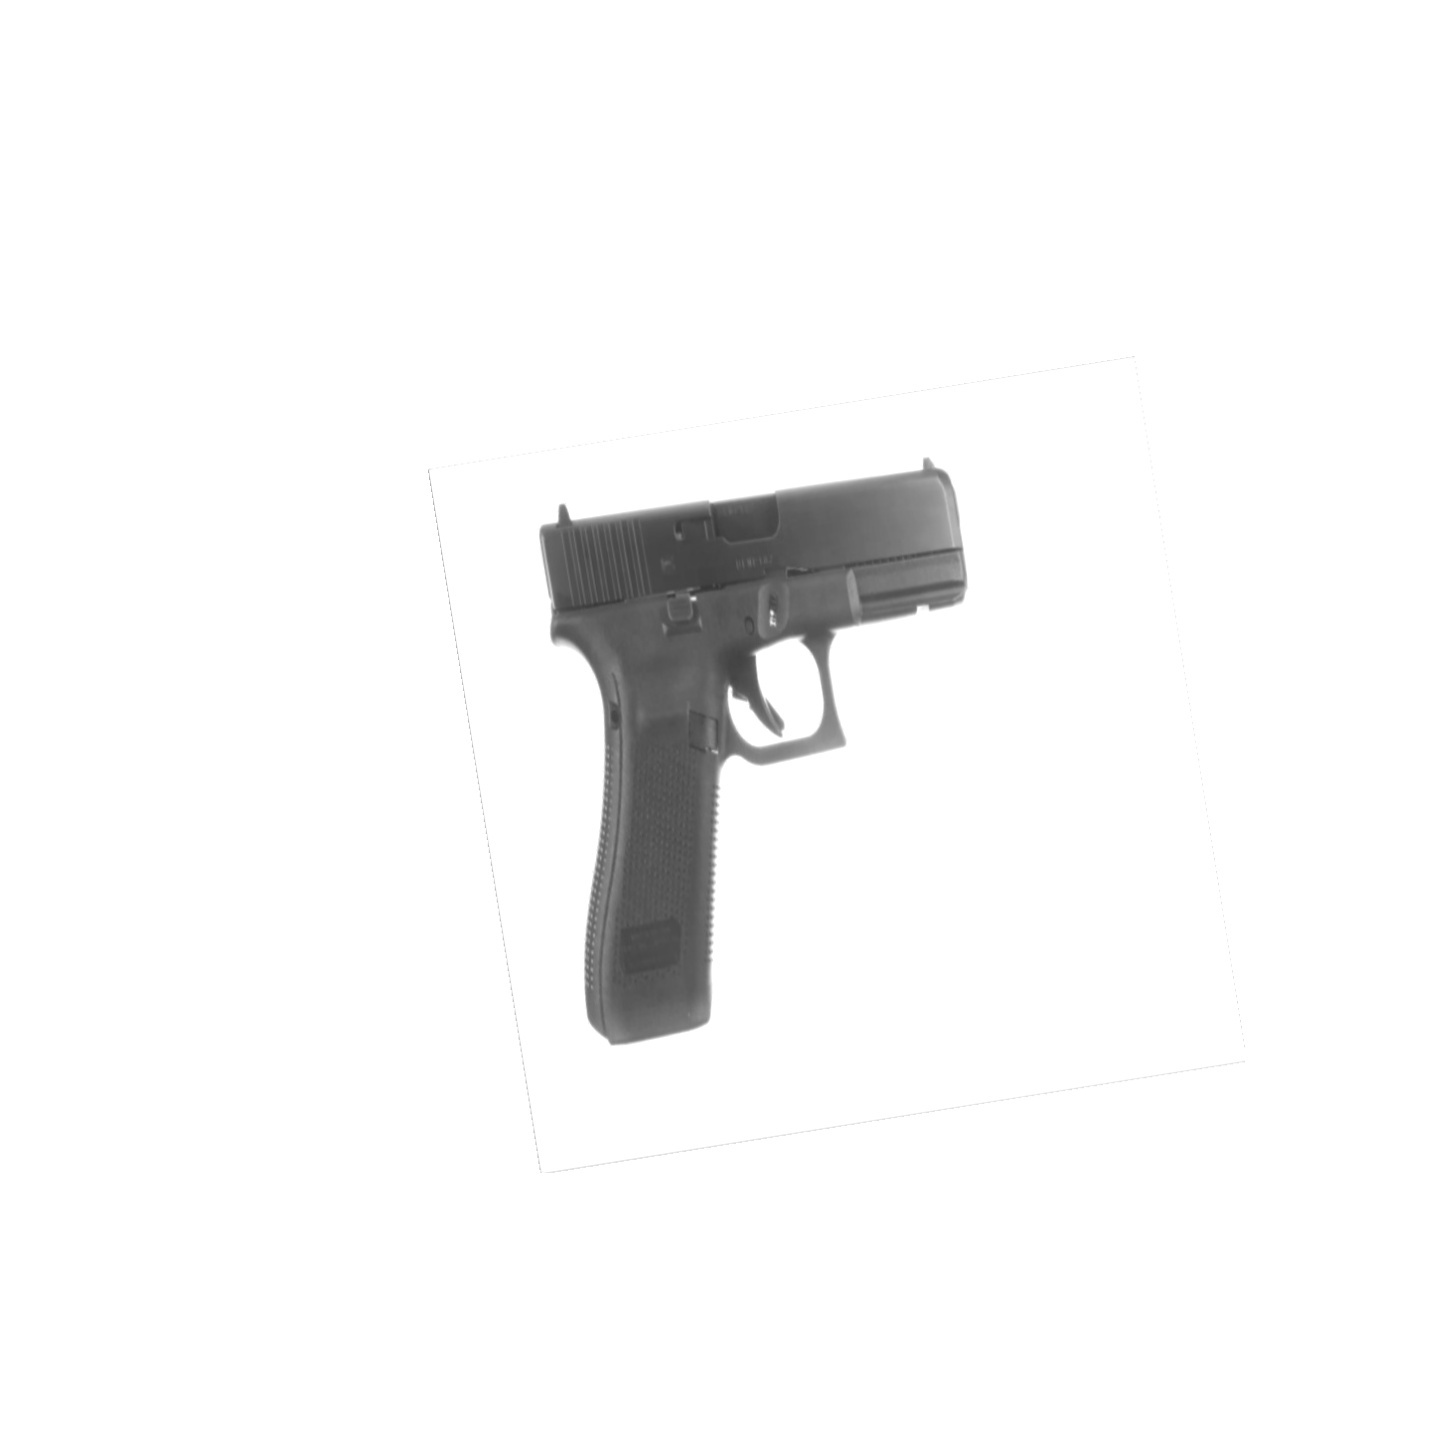gun: (535, 450, 974, 1047)
